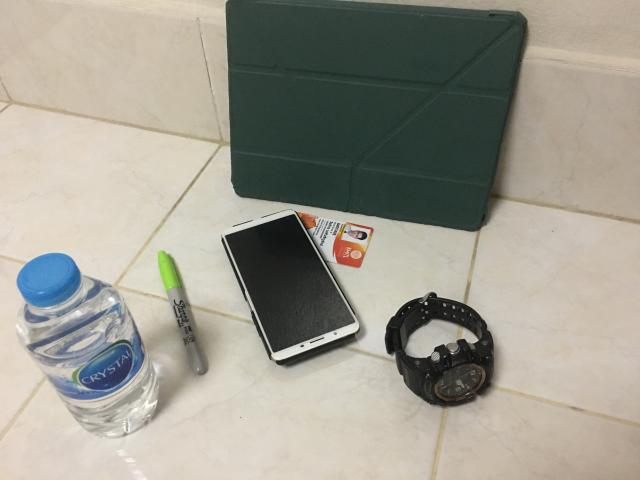Mobile phone: (221, 210, 360, 365)
Pen: (158, 250, 206, 375)
Watch: (385, 291, 494, 406)
bottle: (16, 252, 158, 438)
